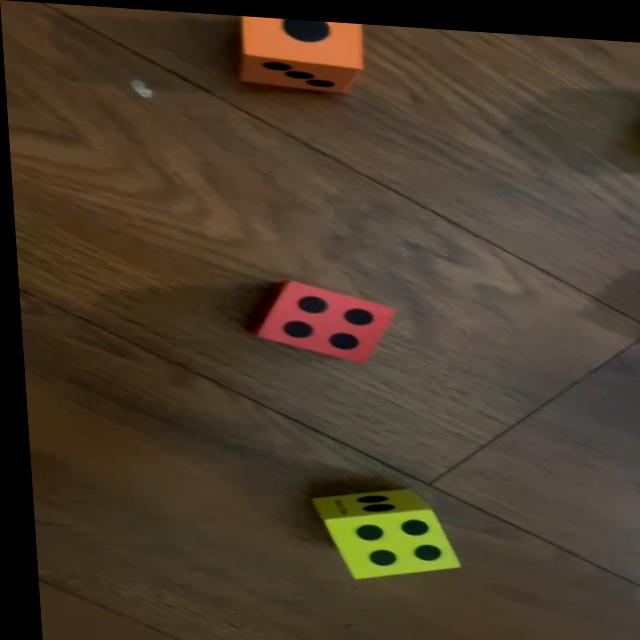red_block: (249, 275, 392, 361)
